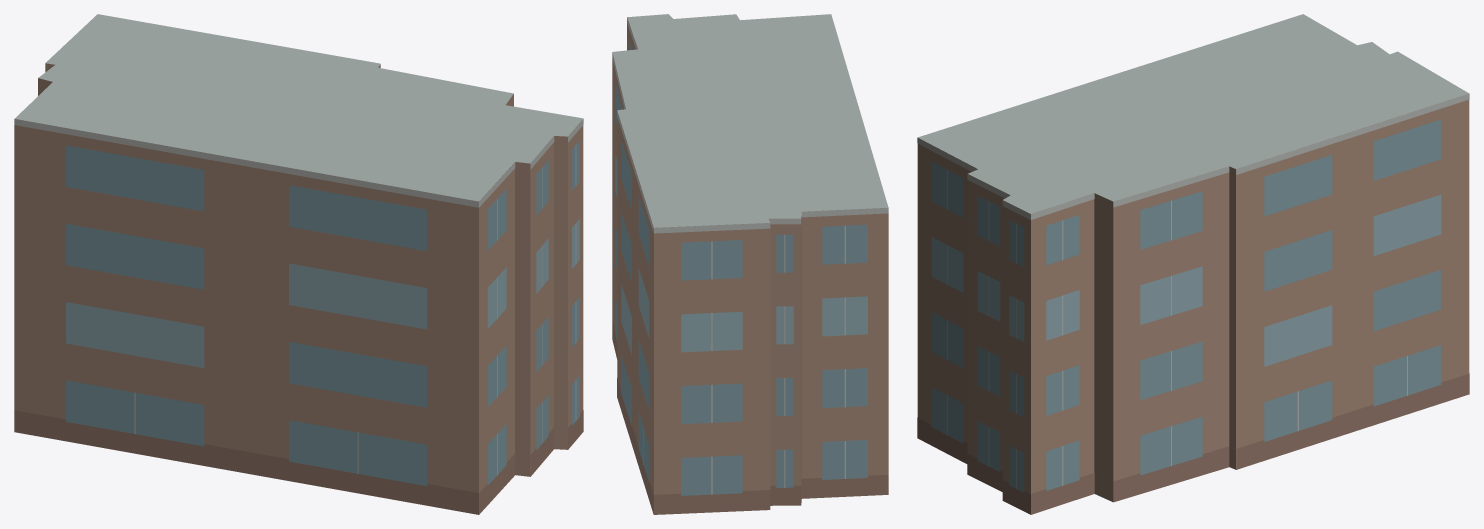
The model's file is survey-upis-32694935.glb.
3 renders of one model, left to right at view 1: azimuth 30°, elevation 25°; view 2: azimuth 150°, elevation 25°; view 3: azimuth 270°, elevation 25°, orthographic. The views are drawn at different scales.
Visible parts, largest first — view 1: survey-upis-32694935.tmp; view 2: survey-upis-32694935.tmp; view 3: survey-upis-32694935.tmp.
Part boxes in pixels (box(x1,y1,x2,y2)): survey-upis-32694935.tmp: box(14, 14, 583, 514); survey-upis-32694935.tmp: box(612, 14, 888, 514); survey-upis-32694935.tmp: box(917, 14, 1469, 514).
Size of the model in its own units: 17.56 by 12.3 by 20.47.
